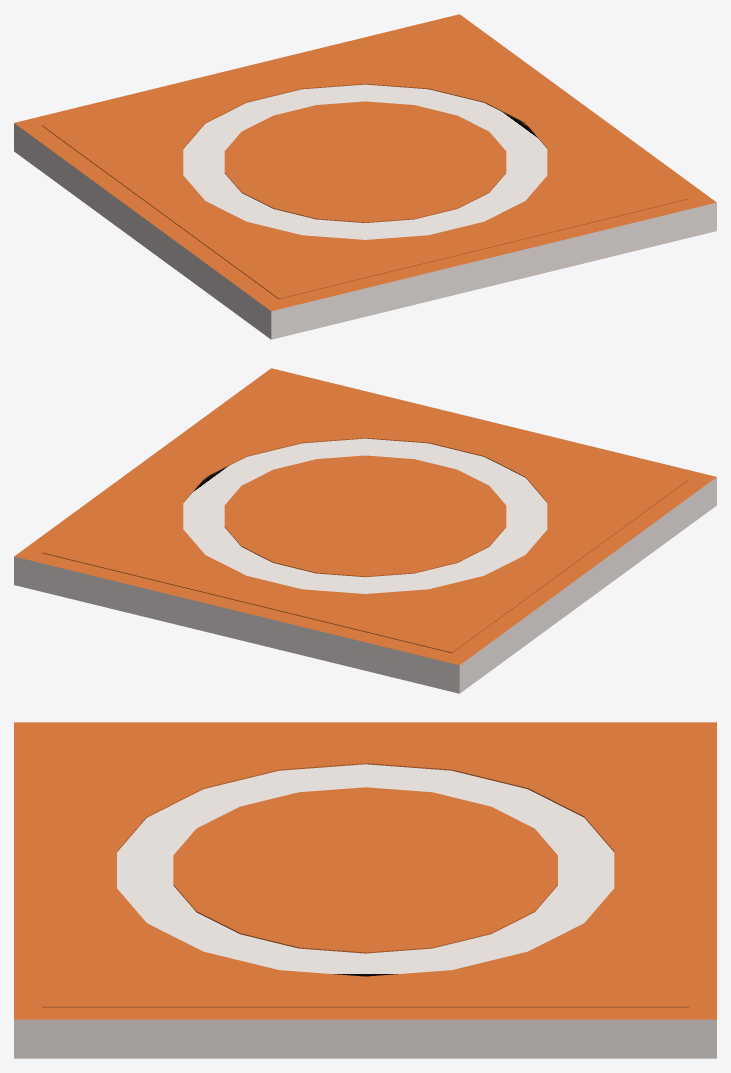
Rendered from Button_Orange.fbx.
3 views of the same model, one above another, from view 1: azimuth 30°, elevation 25°; view 2: azimuth 150°, elevation 25°; view 3: azimuth 270°, elevation 25° (orthographic). The views are drawn at different scales.
Parts seen in each view (by area): view 1: Box002; view 2: Box002; view 3: Box002.
Boxes of the visible parts, left/top/right/bottom form: Box002: left=14, top=14, right=716, bottom=339; Box002: left=14, top=368, right=716, bottom=693; Box002: left=14, top=722, right=716, bottom=1058.
Size of the model in its own units: 1 by 0.063 by 1.
Materials: 1 (1 with a texture image).
